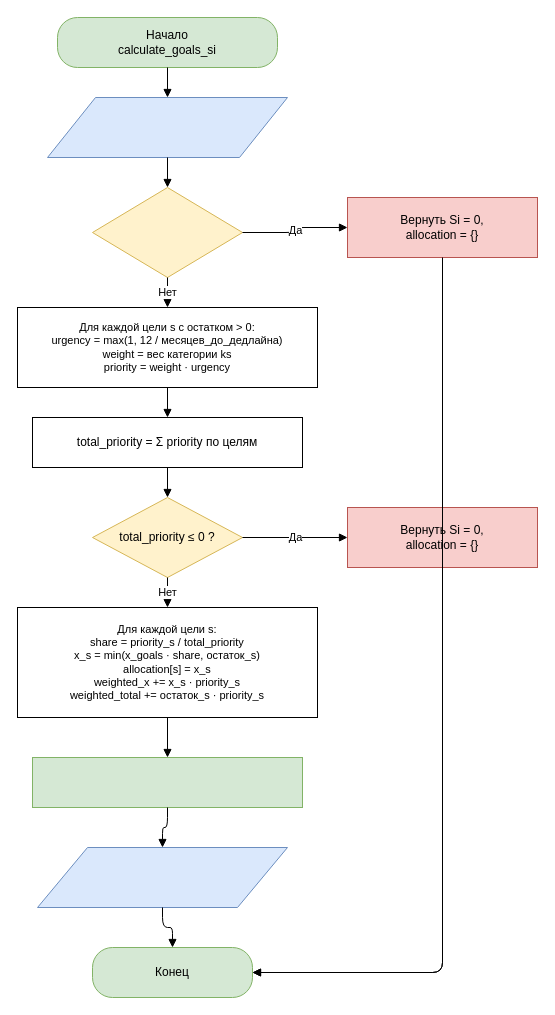
This 555x1015 diagram has some shape labels left out. The box of each missing label's shape, as (x1, y1, x2, y2) in pixels:
Si = min( weighted_x / weighted_total , 1.0 ): (32, 756, 302, 808)
x_goals ≤ 0 или G пуст ?: (92, 186, 242, 278)
Ввод: сумма на цели x_goals, список целей G, дата today: (46, 96, 288, 158)
Вывод: Si, allocation {цель → сумма}: (36, 846, 288, 908)
